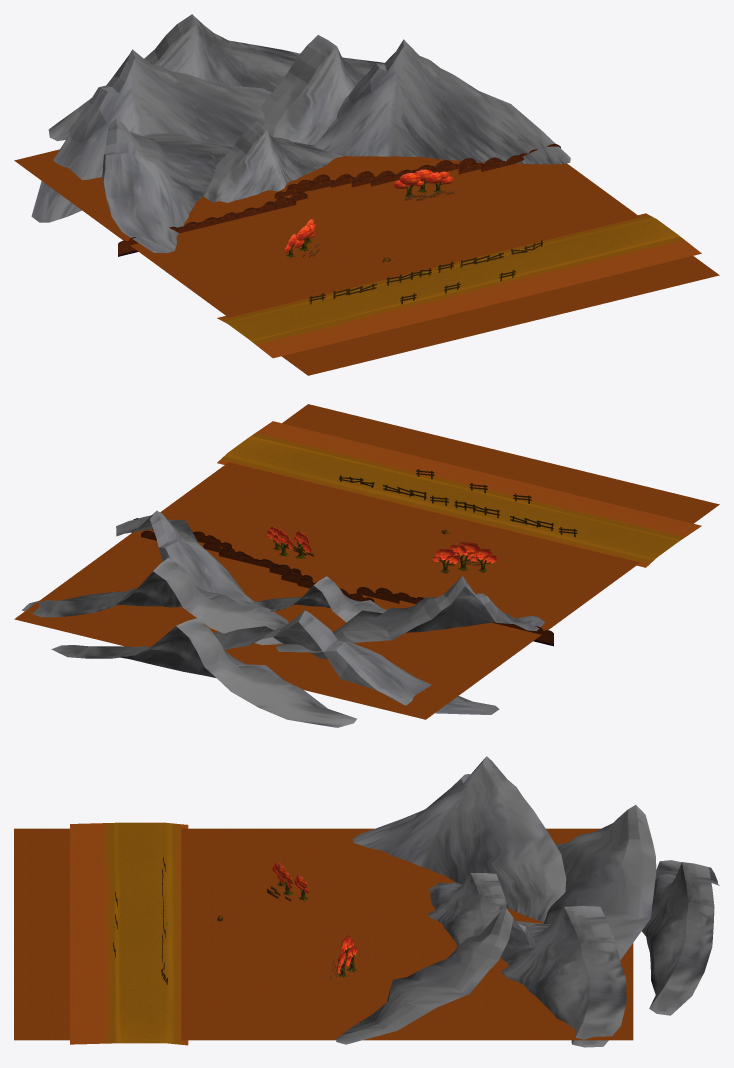
The model's file is 336_bg_roadF.fbx.
3 views of the same model, one above another, from view 1: azimuth 30°, elevation 25°; view 2: azimuth 150°, elevation 25°; view 3: azimuth 270°, elevation 25° (orthographic). The views are drawn at different scales.
Parts seen in each view (by area): view 1: ground, bg_road_model:pPlane459, polySurface1, polySurface17, polySurface18, polySurface19, polySurface20, polySurface16; view 2: ground, bg_road_model:pPlane459, polySurface20, polySurface19, polySurface17, polySurface18, polySurface1, polySurface16; view 3: ground, bg_road_model:pPlane459, polySurface18, polySurface19, polySurface17, polySurface20, polySurface1, polySurface16.
Boxes of the visible parts, x1,y1,x2,y2 form: ground: [14, 149, 719, 375]; bg_road_model:pPlane459: [217, 213, 701, 358]; polySurface1: [313, 39, 570, 164]; polySurface17: [31, 49, 271, 222]; polySurface18: [102, 118, 233, 253]; polySurface19: [260, 35, 384, 144]; polySurface20: [48, 14, 300, 141]; polySurface16: [203, 121, 343, 202]; ground: [14, 404, 719, 719]; bg_road_model:pPlane459: [217, 421, 701, 567]; polySurface20: [51, 618, 356, 727]; polySurface19: [22, 557, 288, 644]; polySurface17: [213, 610, 499, 714]; polySurface18: [276, 576, 544, 652]; polySurface1: [116, 510, 258, 604]; polySurface16: [255, 576, 386, 622]; ground: [14, 828, 633, 1040]; bg_road_model:pPlane459: [70, 822, 188, 1045]; polySurface18: [352, 756, 566, 922]; polySurface19: [501, 906, 626, 1047]; polySurface17: [544, 805, 656, 960]; polySurface20: [642, 860, 719, 1015]; polySurface1: [336, 908, 535, 1044]; polySurface16: [428, 873, 506, 945].
Size of the model in its own units: 5571 by 1254 by 7272.
